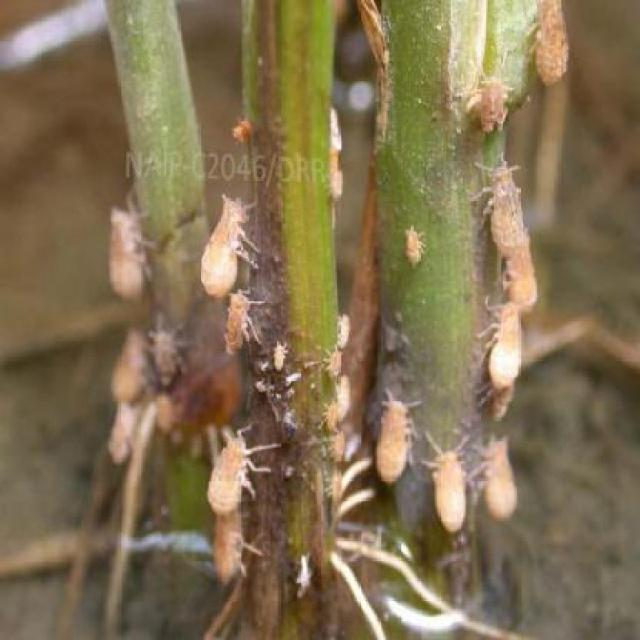brown-planthopper: (198, 196, 257, 295), (206, 425, 259, 510), (104, 202, 148, 301), (483, 297, 523, 395), (482, 164, 524, 250), (427, 446, 468, 534), (373, 396, 412, 484), (481, 438, 519, 522), (534, 0, 568, 86), (146, 323, 185, 391), (473, 68, 512, 130), (222, 296, 260, 358), (403, 225, 425, 269), (271, 335, 289, 373)
